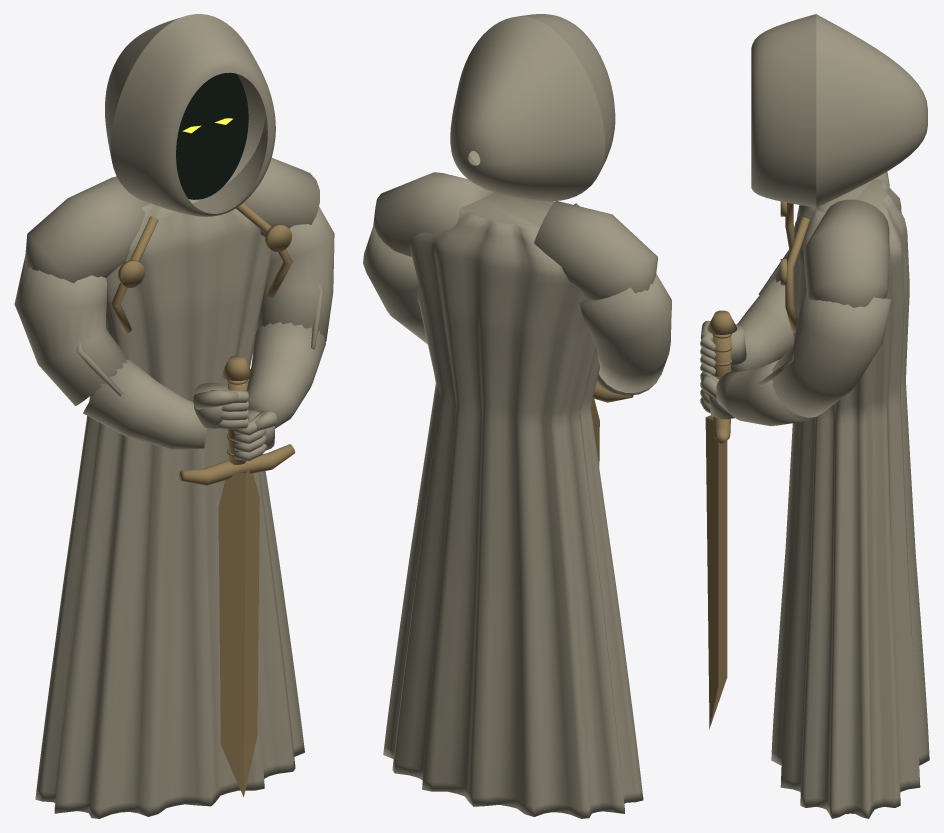
The model's file is hades_portal_guardian.glb.
3 views of the same model, side by side, from view 1: azimuth 30°, elevation 25°; view 2: azimuth 150°, elevation 25°; view 3: azimuth 270°, elevation 25° (orthographic). The views are drawn at different scales.
Parts seen in each view (by area): view 1: Guardian weathered limestone, Guardian antique bronze, Hood deep shadow; view 2: Guardian weathered limestone, Guardian antique bronze; view 3: Guardian weathered limestone, Guardian antique bronze.
Boxes of the visible parts, x1=… form: Guardian weathered limestone: x1=14, y1=14, x2=334, y2=818; Guardian antique bronze: x1=111, y1=203, x2=295, y2=797; Hood deep shadow: x1=176, y1=72, x2=248, y2=199; Guardian weathered limestone: x1=363, y1=14, x2=671, y2=818; Guardian antique bronze: x1=574, y1=203, x2=633, y2=466; Guardian weathered limestone: x1=700, y1=14, x2=929, y2=818; Guardian antique bronze: x1=705, y1=201, x2=809, y2=728.
Size of the model in its own units: 2.69 by 6.44 by 1.8.
